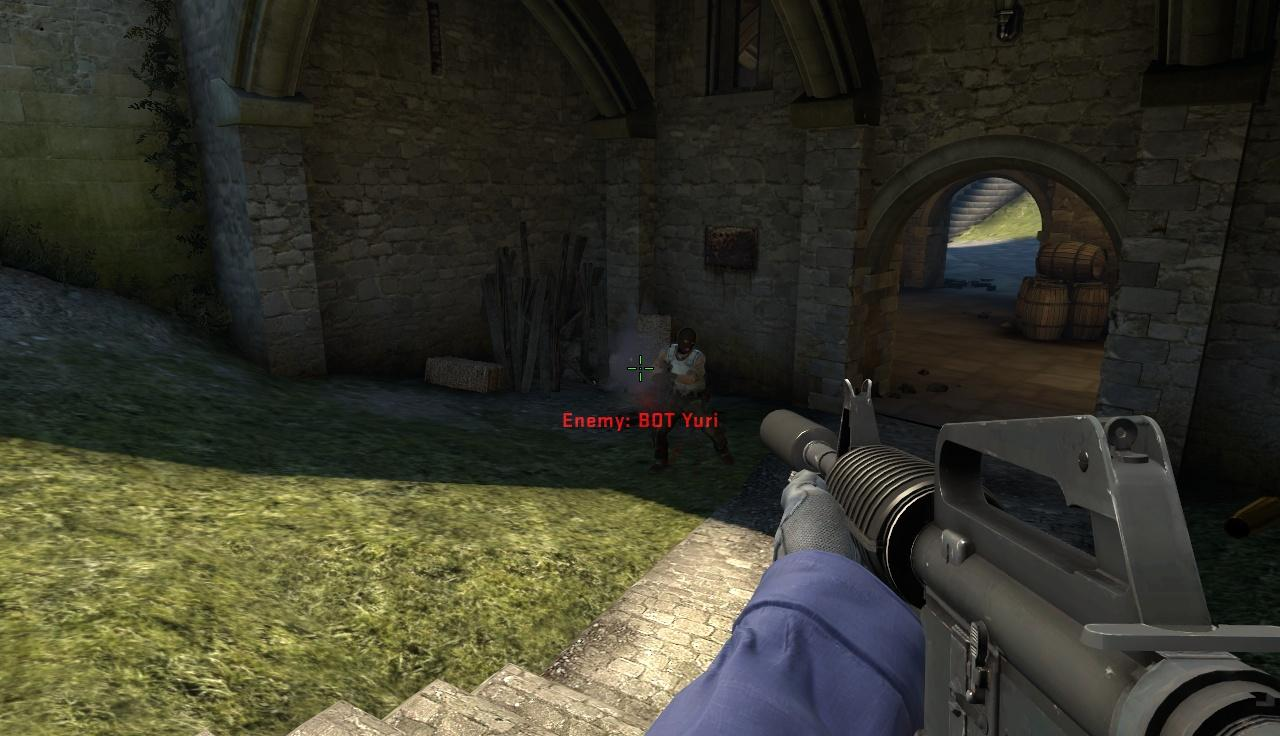rifle: (765, 393, 1280, 734)
tt: (658, 330, 713, 474)
tthead: (679, 327, 698, 354)
